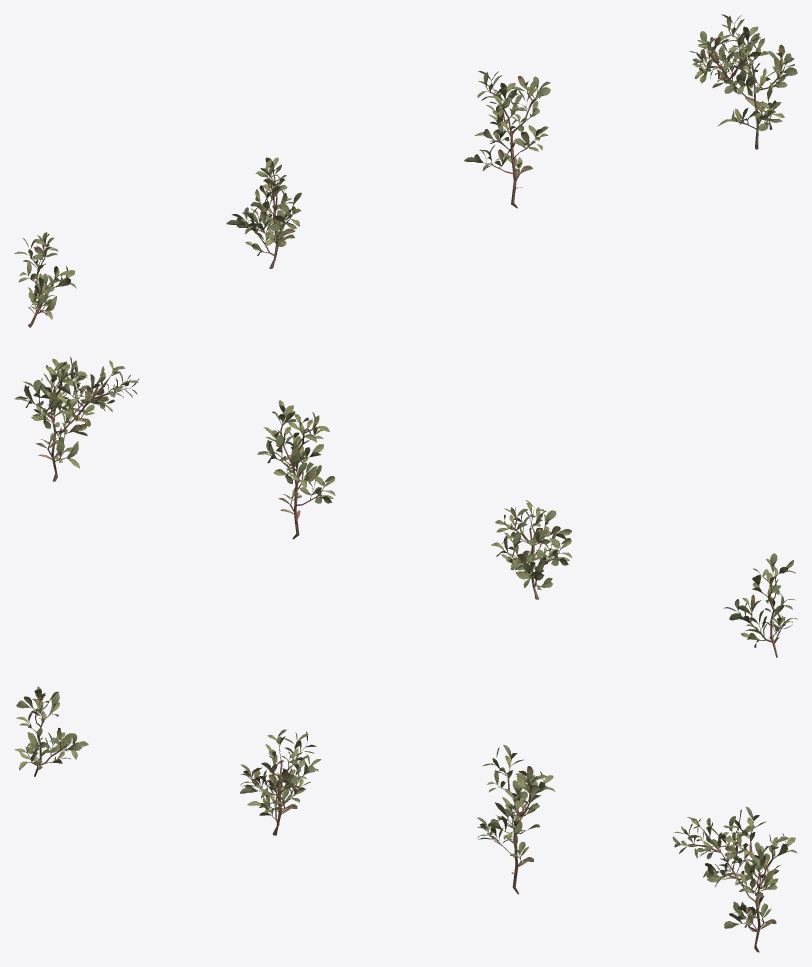
File: shrub_04.glb
The picture shows the model from 3 angles, top to bottom: view 1: azimuth 30°, elevation 25°; view 2: azimuth 150°, elevation 25°; view 3: azimuth 330°, elevation 25°; orthographic projection.
Parts seen in each view (by area): view 1: shrub_04_d, shrub_04_c, shrub_04_b, shrub_04_a; view 2: shrub_04_d, shrub_04_c, shrub_04_b, shrub_04_a; view 3: shrub_04_d, shrub_04_c, shrub_04_b, shrub_04_a.
Boxes of the visible parts, x1,y1,x2,y2 form: shrub_04_d: (690,14,797,149); shrub_04_c: (464,71,550,208); shrub_04_b: (226,157,301,268); shrub_04_a: (14,232,76,327); shrub_04_d: (14,356,139,481); shrub_04_c: (257,400,335,539); shrub_04_b: (491,500,571,599); shrub_04_a: (723,553,797,657); shrub_04_d: (672,807,797,952); shrub_04_c: (477,745,555,894); shrub_04_b: (240,729,321,835); shrub_04_a: (14,686,88,776).
Bounding box in the file's own units: 1.26 × 0.2193 × 0.1457.
1 material, 1 textured.
